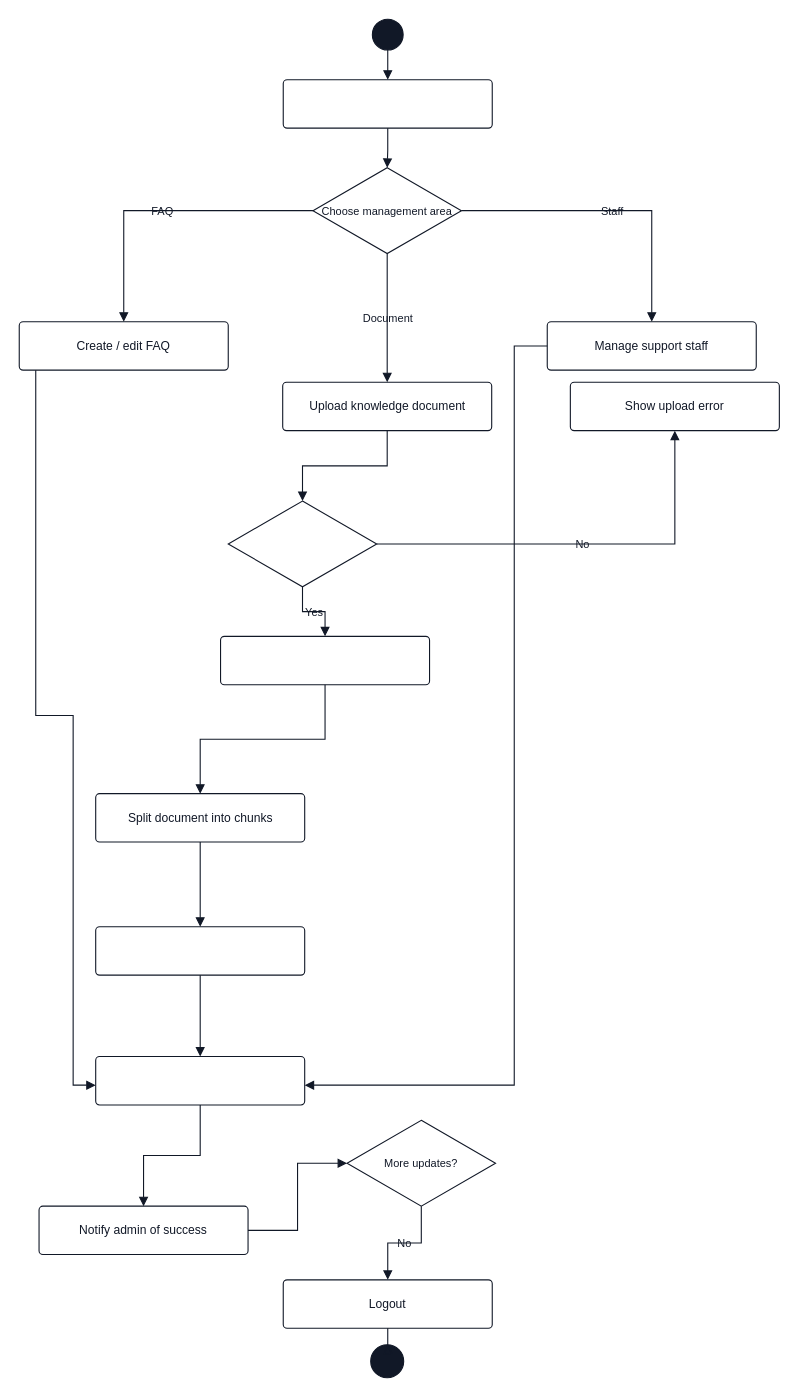
Some shapes in this 799 by 1397 pixel diagram are drawn without their labels. The centre of each missing label's shape, as x and y in pixels:
Document valid?: point (302, 543)
Generate embeddings: point (200, 950)
Open admin dashboard: point (387, 103)
Process document content: point (324, 660)
Save knowledge update: point (200, 1080)
